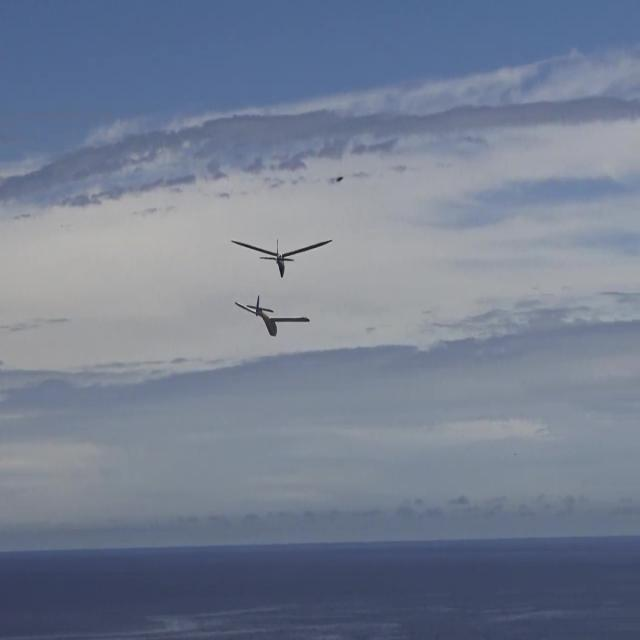iha: (262, 238, 301, 280), (270, 294, 275, 338)
